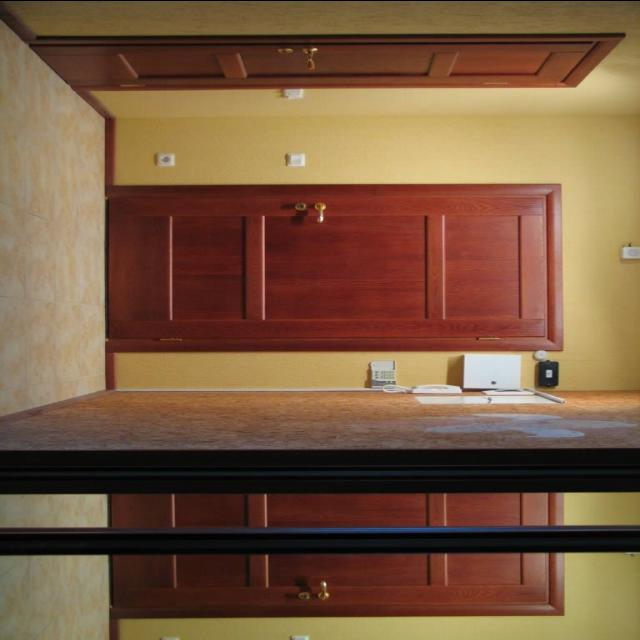close: (114, 188, 554, 352), (42, 33, 600, 93)
